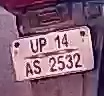1: (53, 35, 62, 51)
2: (47, 56, 58, 75), (72, 52, 83, 68)
3: (65, 53, 74, 70)
4: (61, 32, 72, 47)
5: (57, 55, 67, 72)
A: (24, 61, 33, 78)
P: (38, 37, 46, 54)
S: (32, 58, 44, 74)
U: (30, 37, 39, 54)
